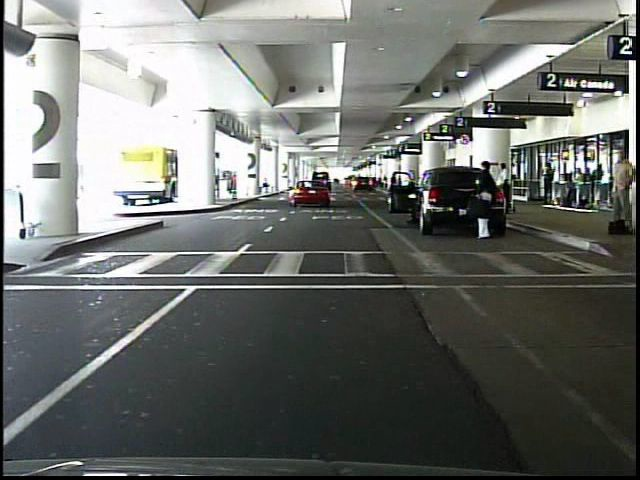person: (472, 162, 498, 244), (493, 162, 513, 217), (541, 162, 554, 205)
